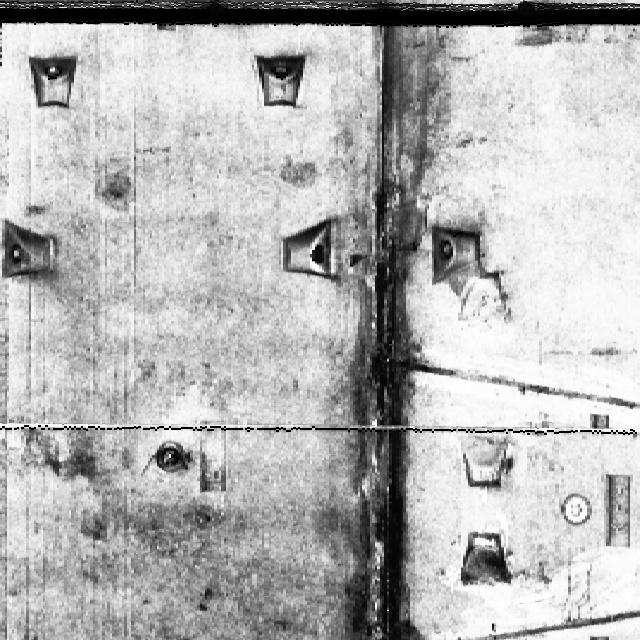leakage: (328, 18, 449, 639)
